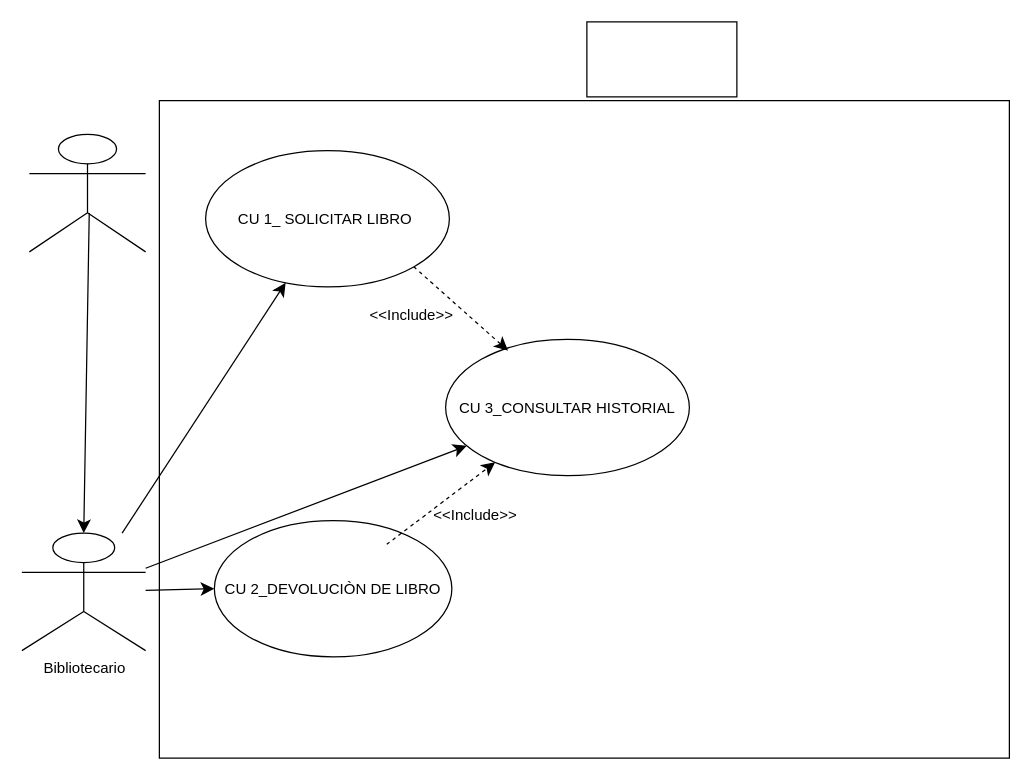
Image size: 1031x780. Some labels were removed from this diagram. The centre of each missing label's shape, as x and y in pixels:
"Diagrama de Caso de Uso" belongs at pixel 661 59.
"Estudiante" belongs at pixel 87 192.
